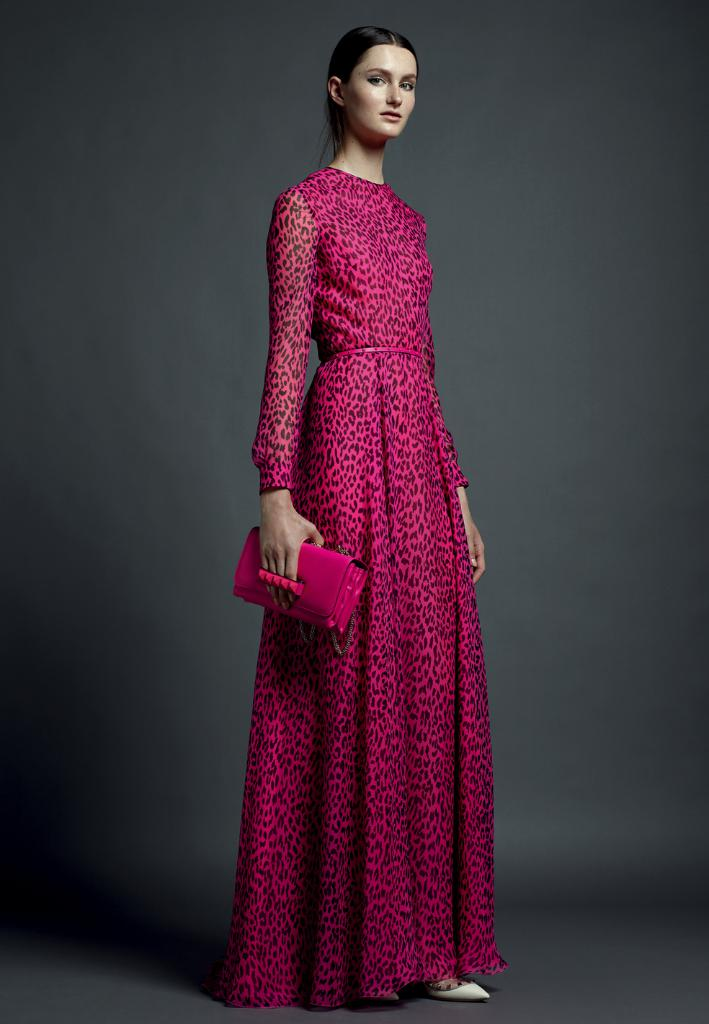face: (347, 41, 417, 138)
